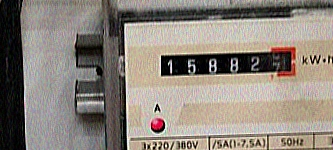1: (164, 59, 174, 75)
2: (248, 56, 259, 73)
5: (185, 58, 196, 75)
7: (271, 62, 280, 73)
8: (227, 57, 238, 74), (206, 59, 217, 75)
screen: (152, 43, 301, 87)
